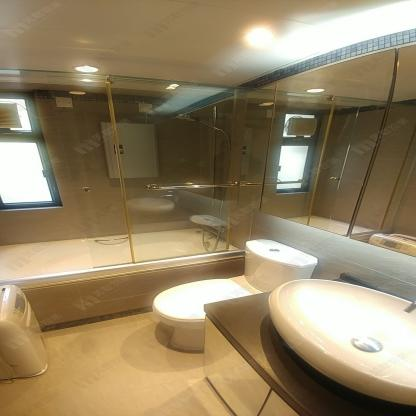Bathtub: (0, 226, 245, 331)
Exhaust Fan: (287, 118, 317, 135)
Toilet: (153, 238, 320, 351)
Toilet Sink: (269, 277, 415, 403)
Water Heater: (99, 122, 161, 179)
